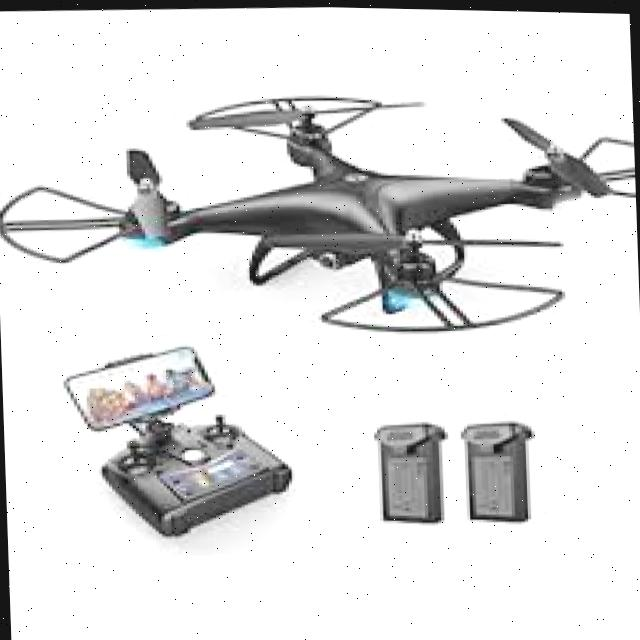drone: (0, 40, 640, 362)
